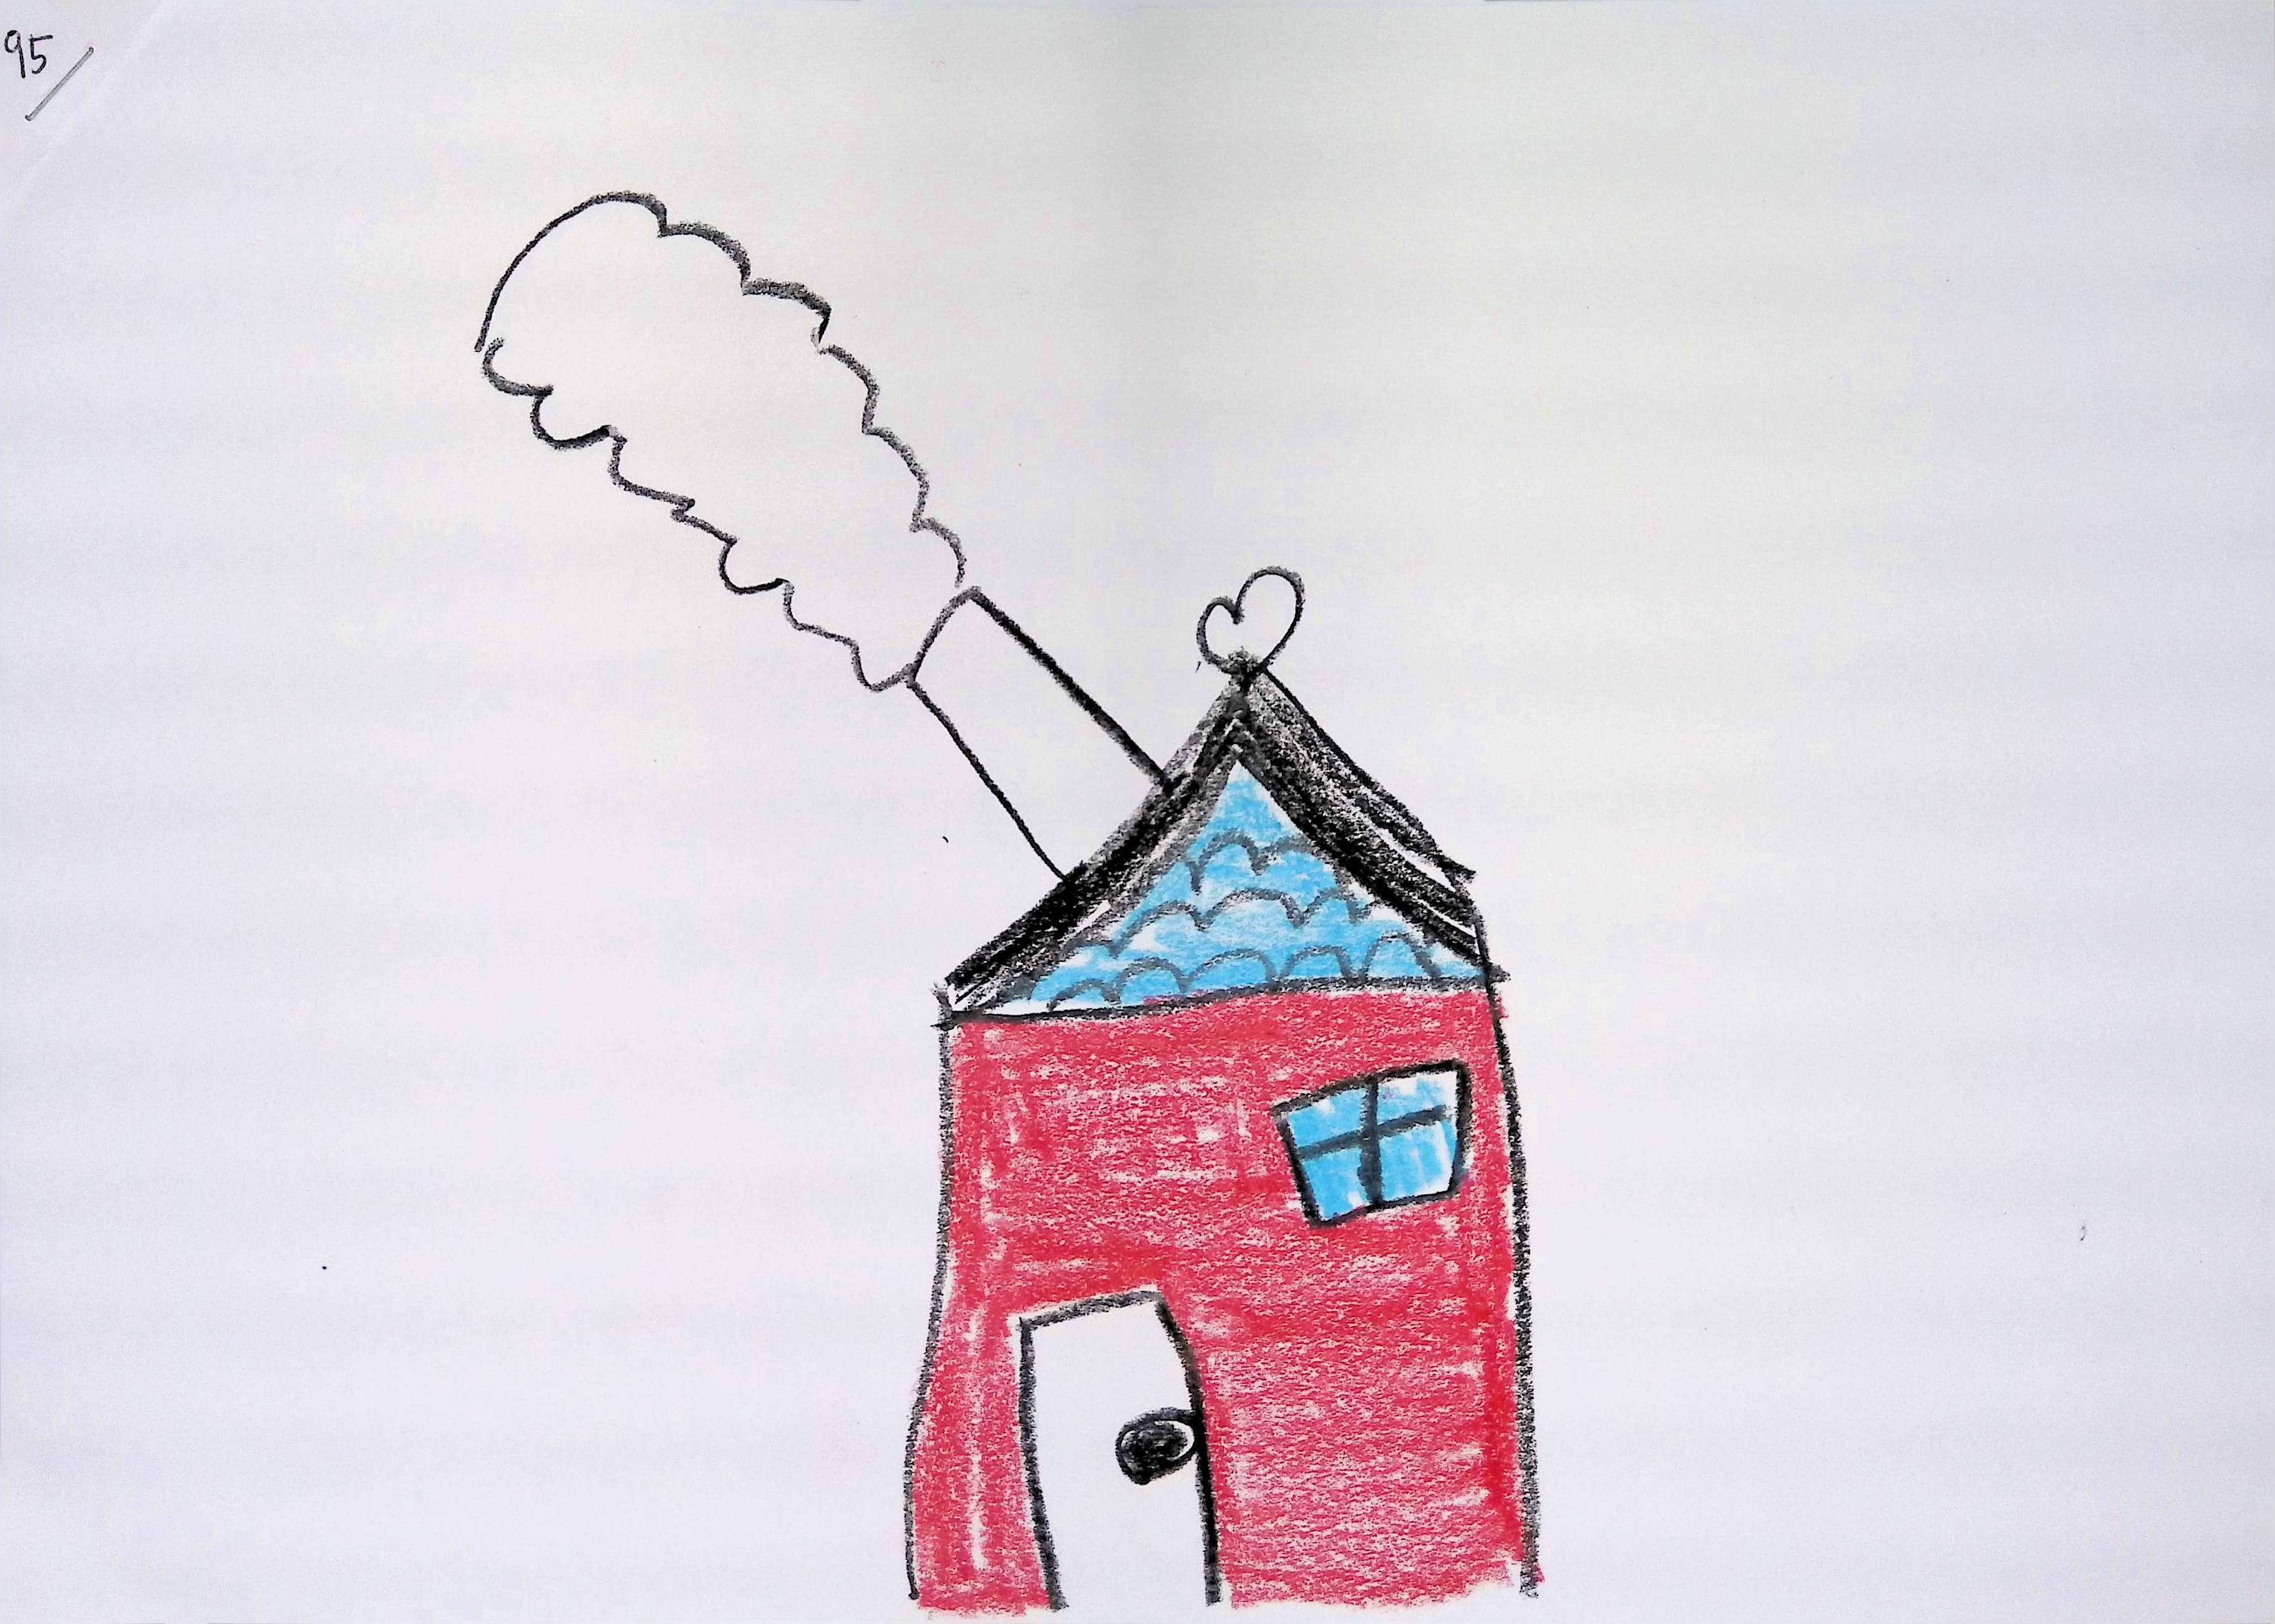chimney: (898, 582, 1169, 889)
door: (1020, 1292, 1217, 1617)
house: (897, 582, 1540, 1615)
roof: (944, 656, 1503, 1021), (1384, 1104, 1392, 1109)
wall: (897, 975, 1542, 1624)
window: (1280, 1067, 1466, 1223)
